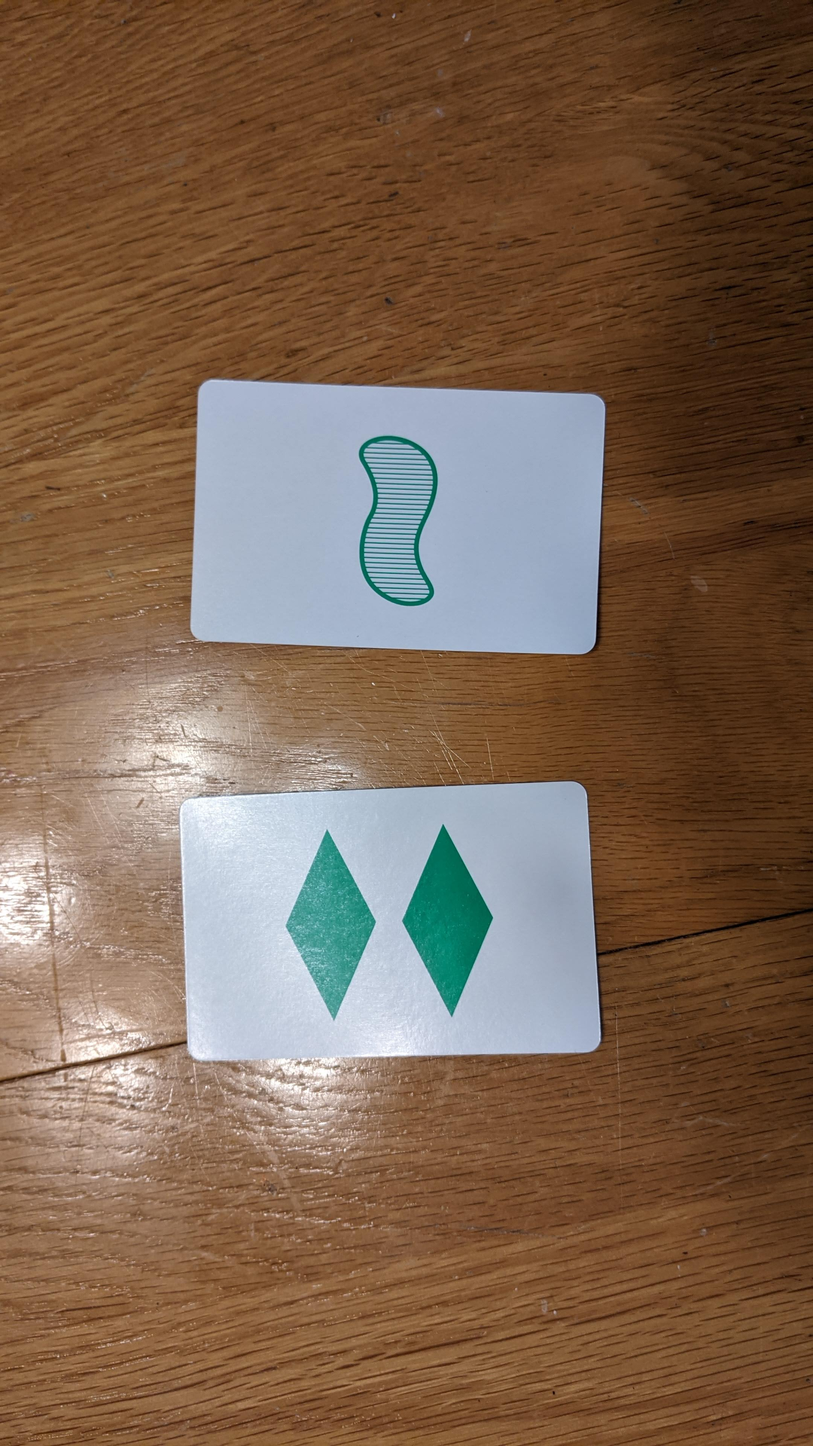card: (178, 783, 604, 1061), (187, 379, 604, 656)
